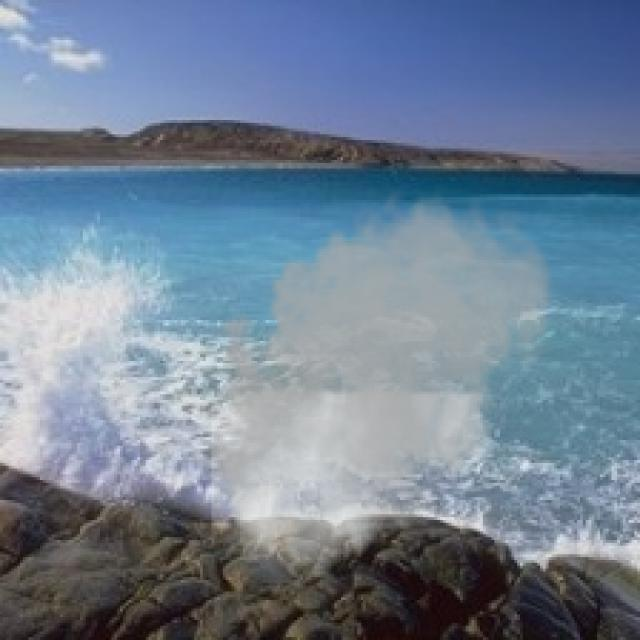smoke: (197, 180, 560, 583)
